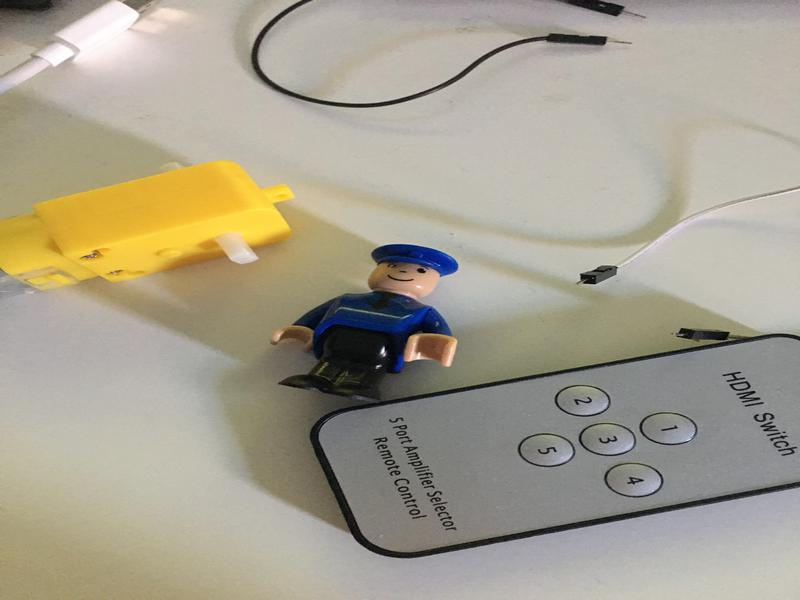person: (270, 242, 461, 400)
